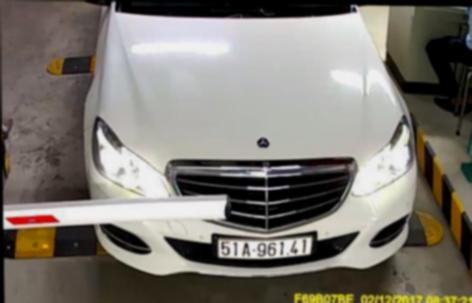License_Plate: (212, 230, 320, 261)
